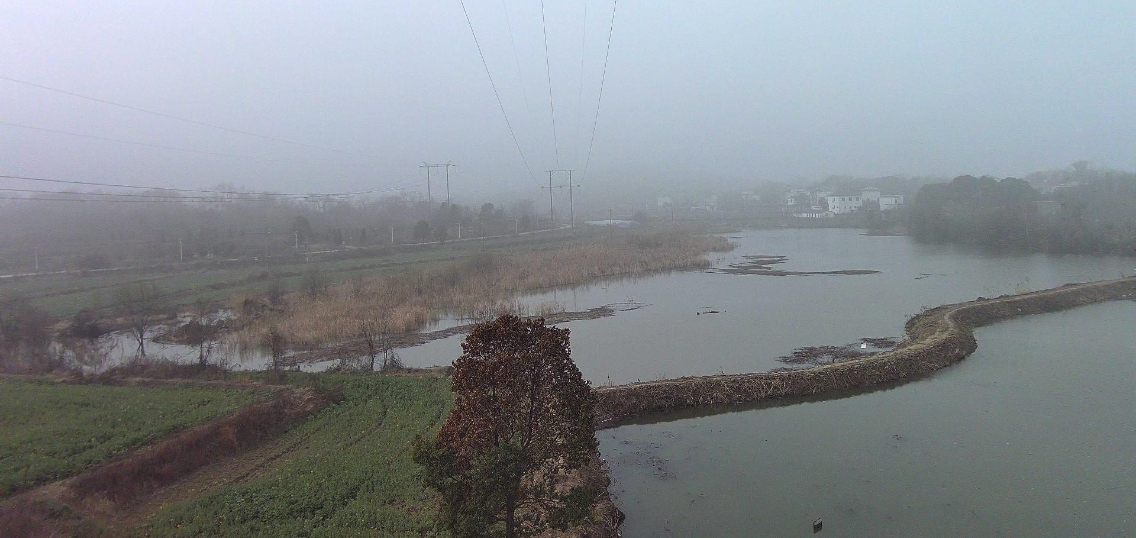山间云雾: (0, 0, 1135, 326)
